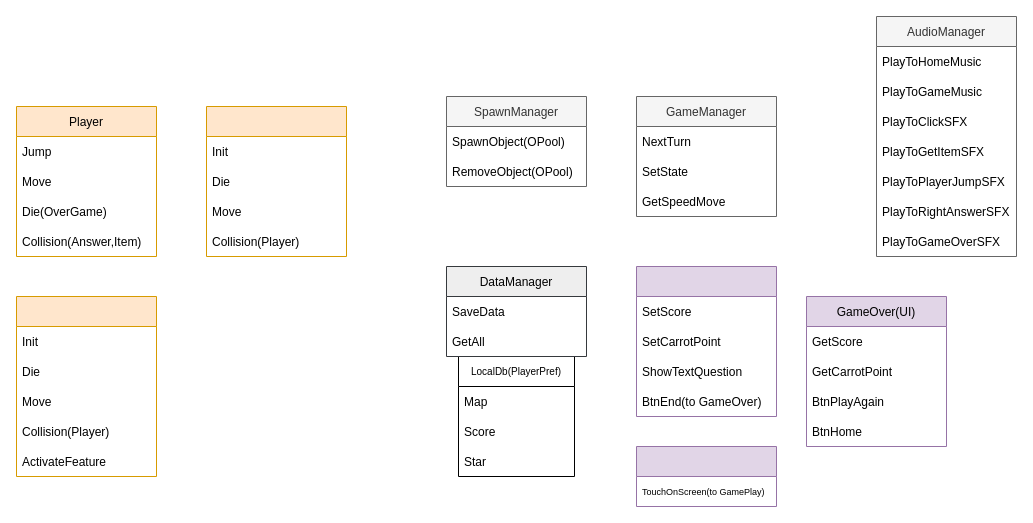
This 1033x523 diagram has some shape labels left out. The box of each missing label's shape, as (x1, y1, x2, y2) in pixels:
Answer: (206, 106, 346, 256)
GamePlay(UI): (636, 266, 776, 416)
GameWait(UI): (636, 446, 776, 506)
Item: (16, 296, 156, 476)
